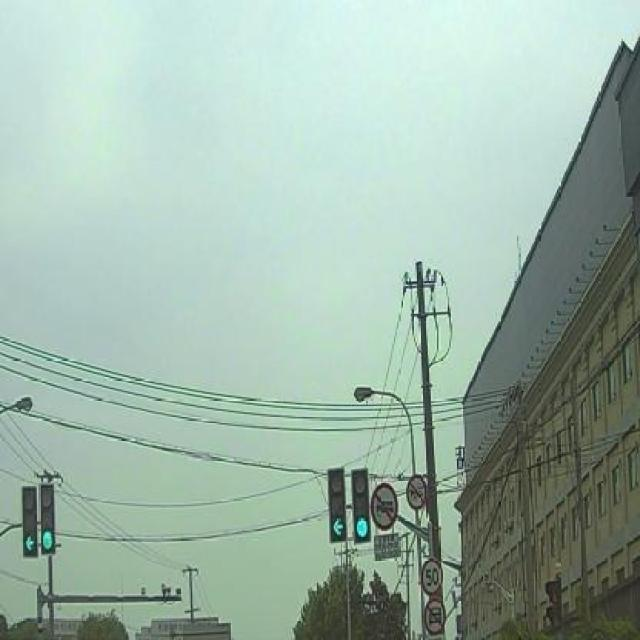forb_speed_over_50: (422, 557, 443, 595)
